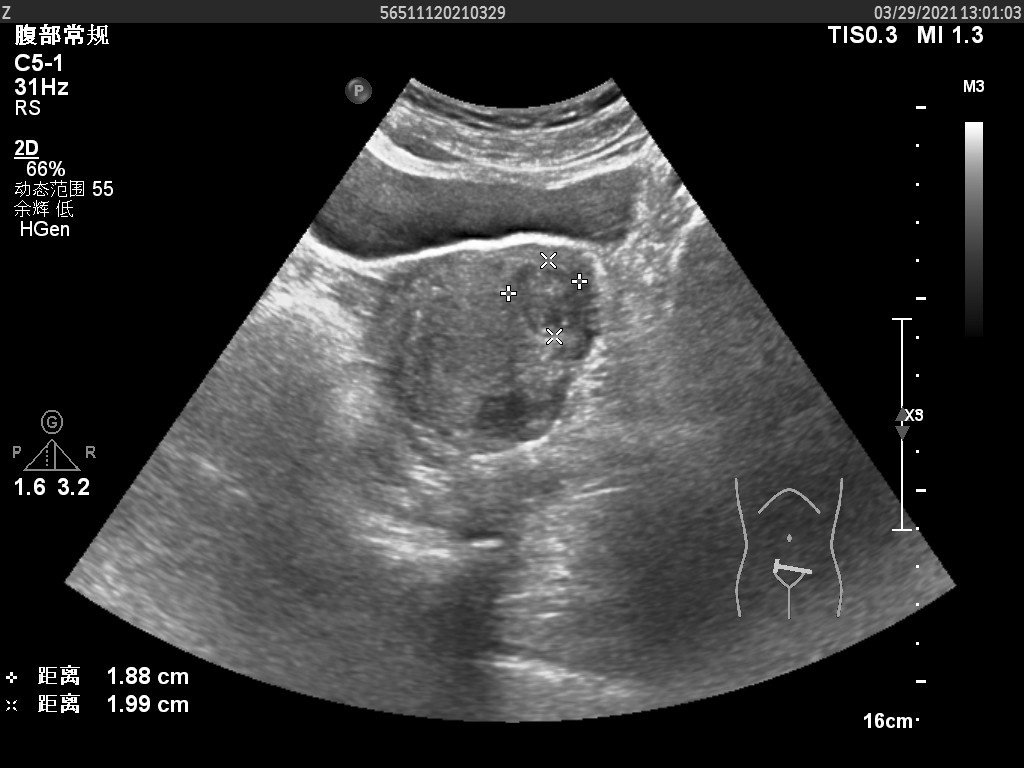肌瘤: (507, 261, 582, 339)
